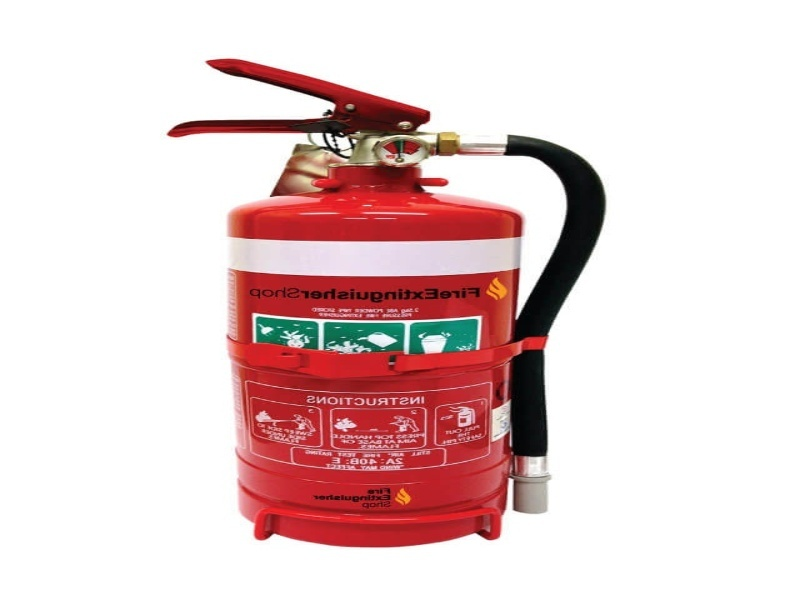fire_extinguisher: (149, 46, 628, 570)
